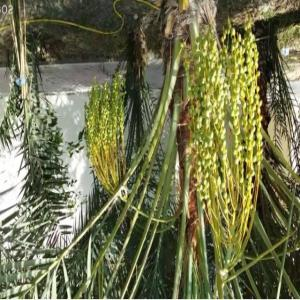palm tree: (1, 0, 298, 298)
